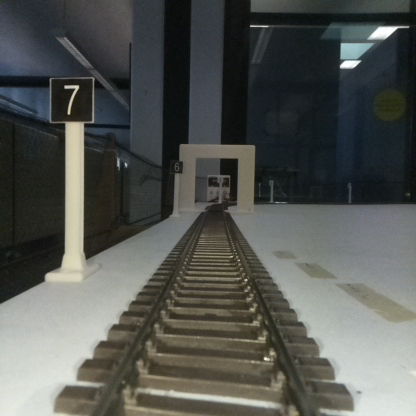black-info-6: (171, 160, 183, 218)
black-info-7: (51, 77, 92, 283)
